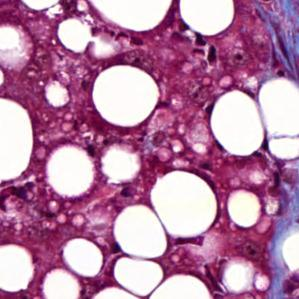steatosis: (94, 63, 161, 126), (114, 203, 168, 259), (0, 98, 34, 180), (179, 0, 235, 36), (63, 238, 104, 278)
